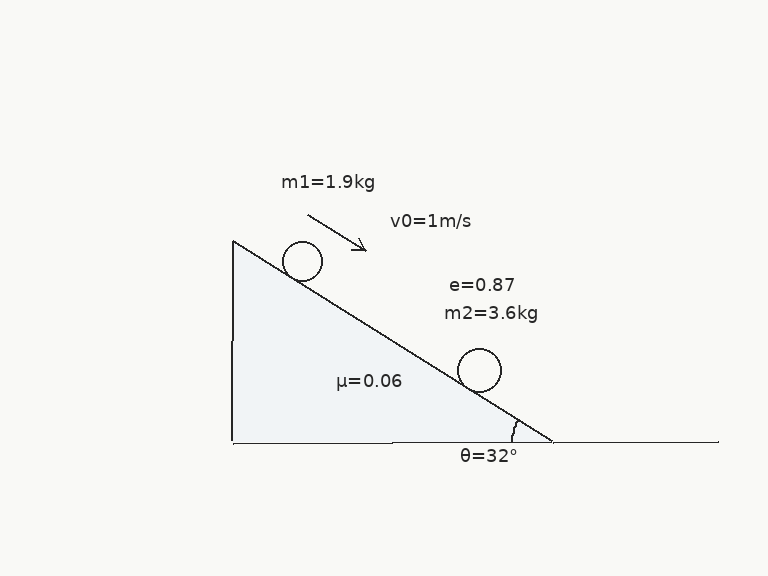ball: (455, 346, 503, 394), (280, 239, 324, 283)
ramp: (230, 239, 554, 443)
